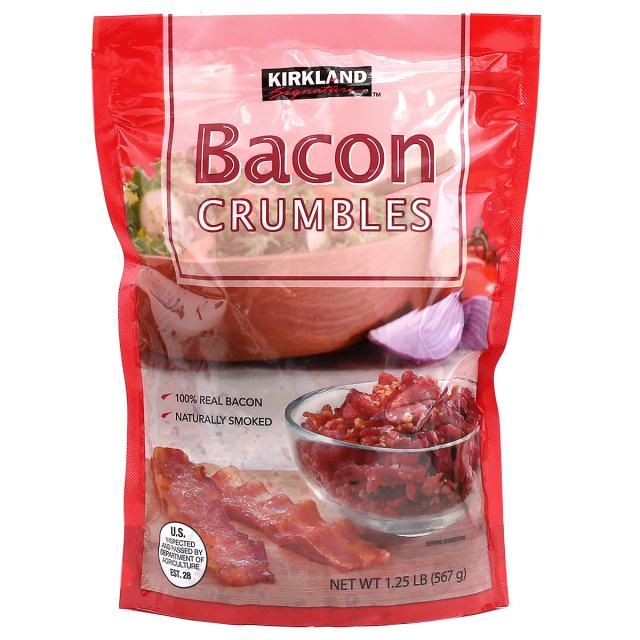bacon: (143, 435, 405, 590)
